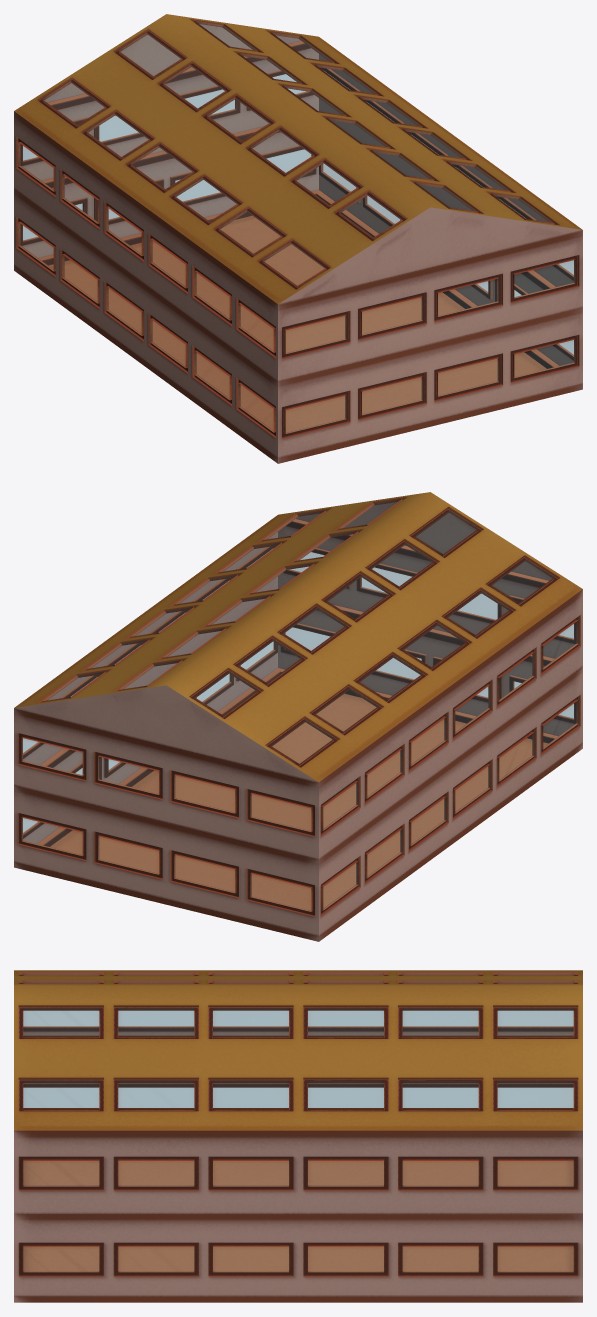
The model's file is WareHouse.FBX.
3 views of the same model, one above another, from view 1: azimuth 30°, elevation 25°; view 2: azimuth 150°, elevation 25°; view 3: azimuth 270°, elevation 25° (orthographic). The views are drawn at different scales.
Visible parts, largest first — view 1: Warehouse, Glass_Windows; view 2: Warehouse, Glass_Windows; view 3: Warehouse, Glass_Windows.
Boxes of the visible parts, left/top/right/bottom form: Warehouse: left=14, top=14, right=582, bottom=463; Glass_Windows: left=18, top=21, right=574, bottom=433; Warehouse: left=14, top=492, right=582, bottom=941; Glass_Windows: left=22, top=499, right=578, bottom=911; Warehouse: left=14, top=970, right=582, bottom=1302; Glass_Windows: left=23, top=973, right=573, bottom=1271.
Bounding box in the file's own units: 400 × 275 × 600.
